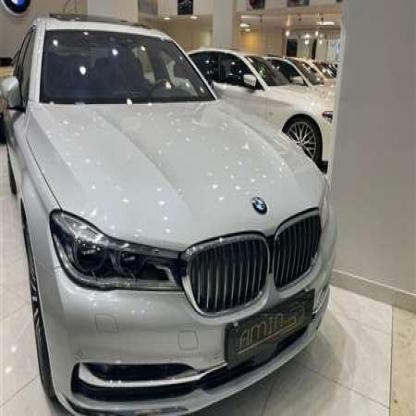Car: (0, 8, 345, 416), (159, 30, 326, 181), (276, 43, 350, 118)
